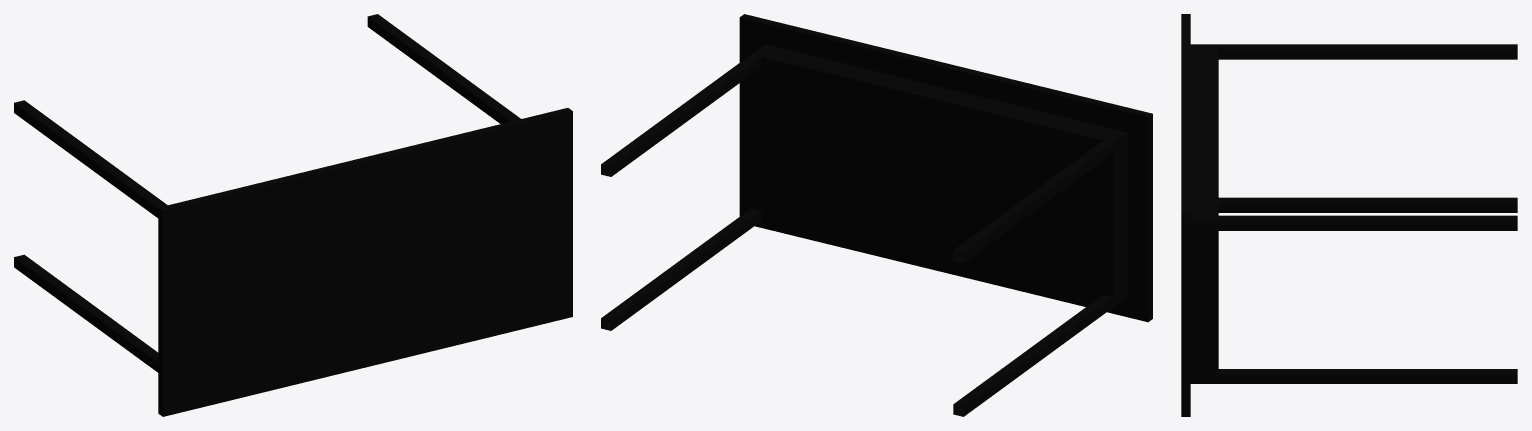
File: tableblack50_wtf.obj
3 renders of one model, left to right at view 1: azimuth 30°, elevation 25°; view 2: azimuth 150°, elevation 25°; view 3: azimuth 270°, elevation 25°, orthographic.
Visible parts, largest first — view 1: group24, group25; view 2: group26, group24, group25; view 3: group25, group26, group24.
Part boxes in pixels (x1,y1,x2,y2): group24: (158, 108, 572, 416); group25: (14, 14, 520, 372); group26: (751, 44, 1127, 306); group24: (739, 14, 1152, 322); group25: (601, 54, 1113, 416); group25: (1218, 44, 1517, 383); group26: (1190, 44, 1218, 383); group24: (1181, 14, 1190, 416).
Size of the model in its own units: 660 by 317 by 472.
